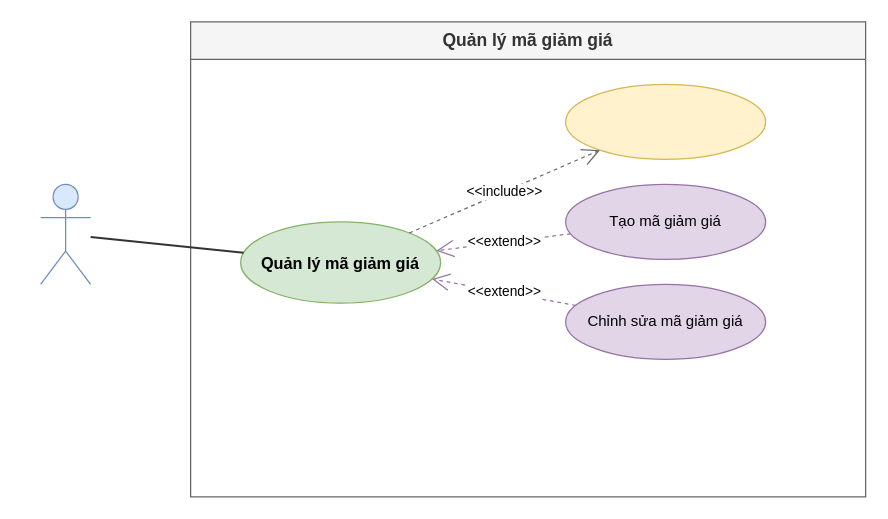
Image size: 888x519. Some labels were removed from this diagram. The centre of each missing label's shape, as x and y in pixels:
"Ban tổ chức" goes at point 65,233.
"Xem danh sách Voucher" goes at point 665,121.
